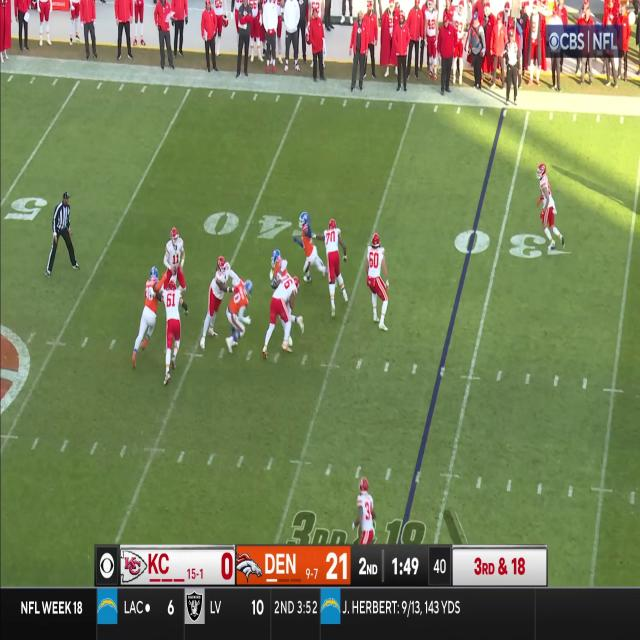Player: (261, 278, 297, 359), (133, 268, 159, 366), (323, 216, 348, 315), (365, 232, 389, 331), (160, 279, 183, 381), (350, 472, 382, 544), (294, 210, 324, 286), (226, 279, 253, 355), (536, 163, 560, 247), (206, 256, 229, 342), (163, 227, 187, 282)
Referee: (46, 190, 78, 274), (506, 30, 518, 106)
